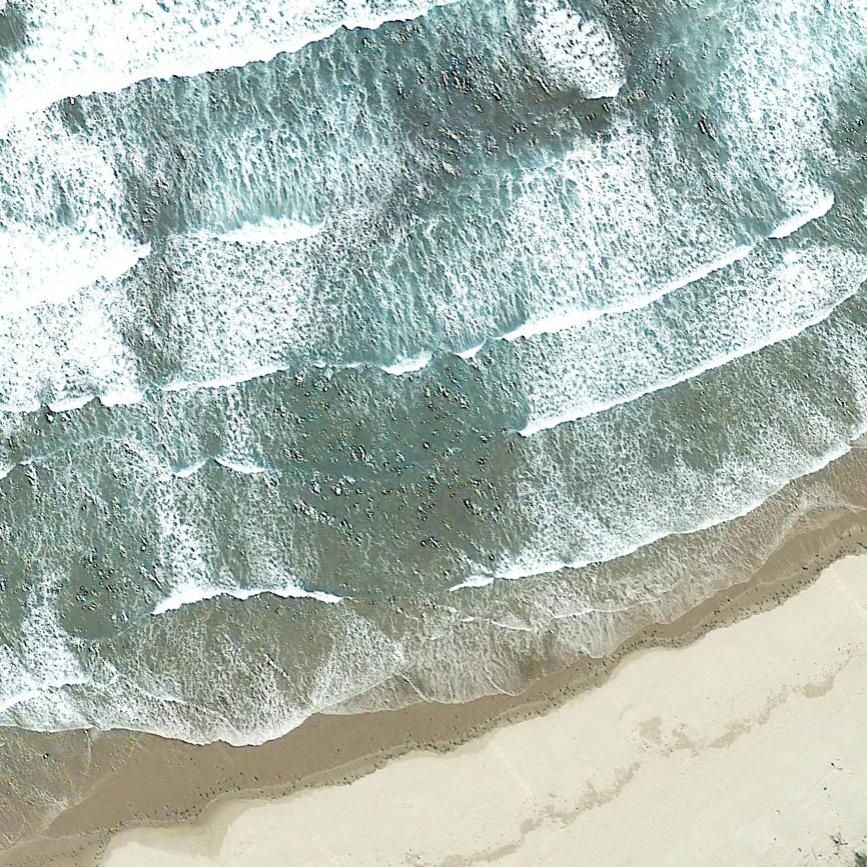rip_current: (231, 101, 576, 682)
